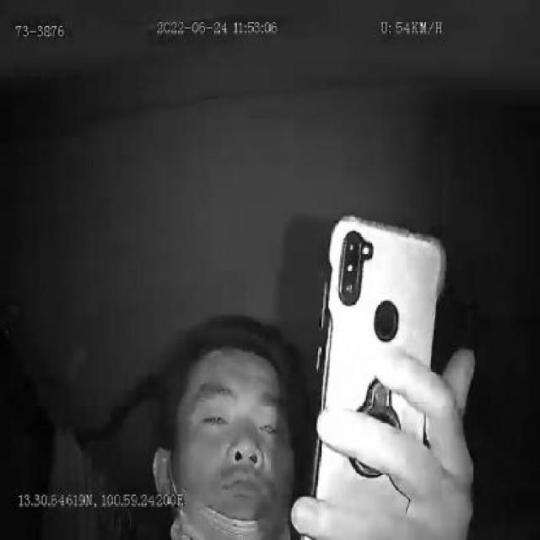phone: (311, 208, 446, 540)
